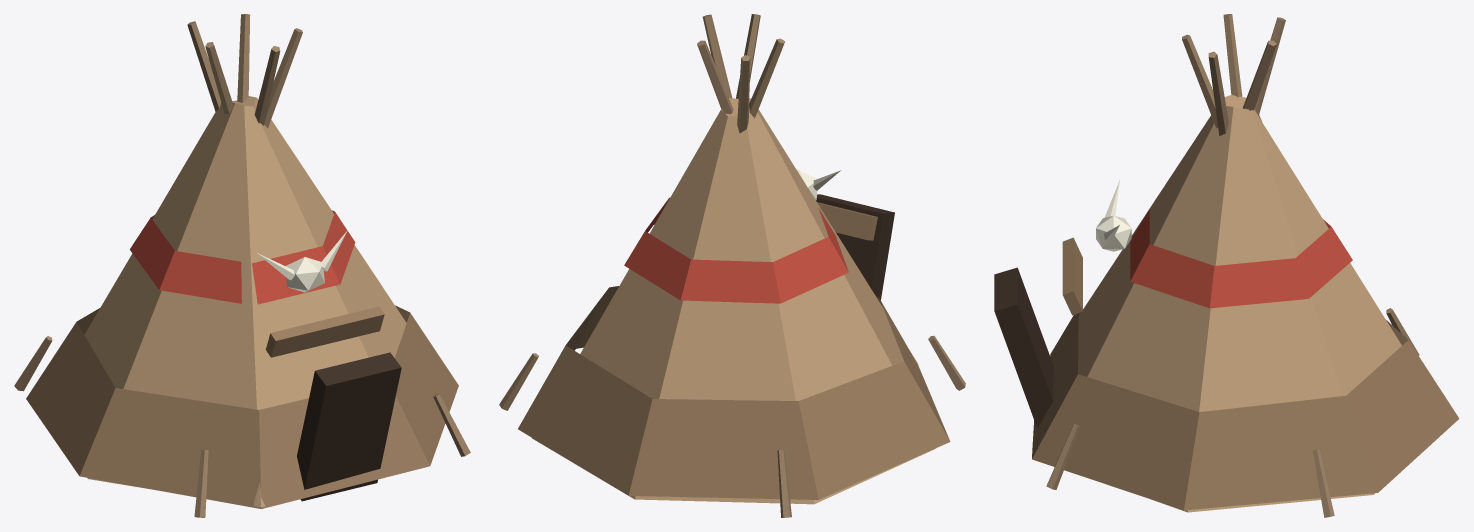
Rendered from orc_tent.glb.
3 views of the same model, side by side, from view 1: azimuth 30°, elevation 25°; view 2: azimuth 150°, elevation 25°; view 3: azimuth 270°, elevation 25° (orthographic).
Visible parts, largest first — view 1: orc_tent; view 2: orc_tent; view 3: orc_tent.
Boxes of the visible parts, x1,y1,x2,y2 form: orc_tent: (14, 14, 470, 517); orc_tent: (499, 14, 965, 517); orc_tent: (994, 14, 1459, 517).
Size of the model in its own units: 4.56 by 4.47 by 4.76.
